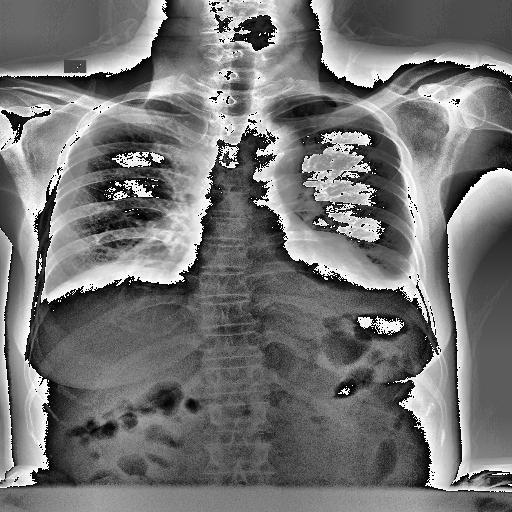0- Aortic enlargement: (238, 123, 304, 181), (246, 120, 304, 182), (238, 120, 306, 172)
10- Pleural effusion: (370, 254, 428, 314), (337, 282, 425, 304), (398, 250, 426, 299)
11- Pleural thickening: (398, 250, 426, 299), (152, 90, 190, 100)
3- Cardiomegaly: (173, 248, 380, 306), (170, 240, 386, 294)
7- Lung Opacity: (318, 236, 416, 288)
